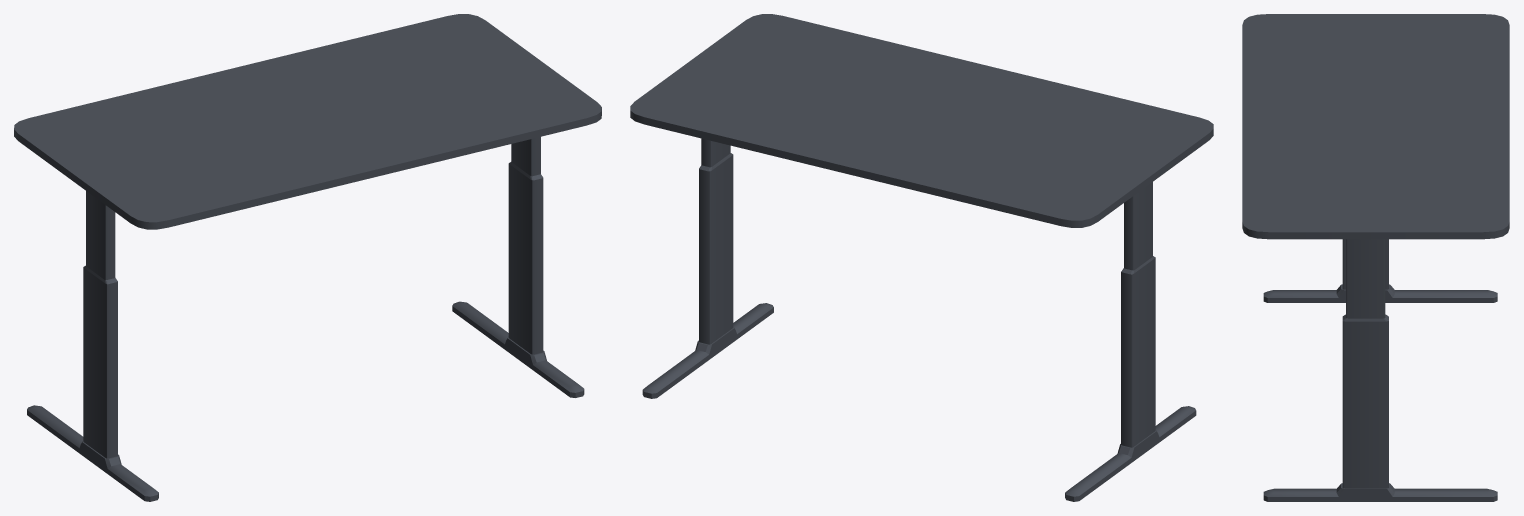
File: mesa_ergonomica.fbx
3 renders of one model, left to right at view 1: azimuth 30°, elevation 25°; view 2: azimuth 150°, elevation 25°; view 3: azimuth 270°, elevation 25°, orthographic. The views are drawn at different scales.
Parts seen in each view (by area): view 1: Box001, Box004, Box005; view 2: Box001, Box004, Box005; view 3: Box001, Box004, Box005.
Boxes of the visible parts, x1=… form: Box001: x1=14, y1=14, x2=601, y2=279; Box004: x1=452, y1=162, x2=584, y2=397; Box005: x1=27, y1=265, x2=158, y2=501; Box001: x1=630, y1=14, x2=1213, y2=270; Box004: x1=642, y1=153, x2=773, y2=398; Box005: x1=1065, y1=256, x2=1196, y2=501; Box001: x1=1242, y1=14, x2=1509, y2=318; Box004: x1=1263, y1=314, x2=1497, y2=501; Box005: x1=1263, y1=239, x2=1497, y2=302.
Size of the model in its own units: 287 by 169 by 149.
Materials: 1 (1 with a texture image).
